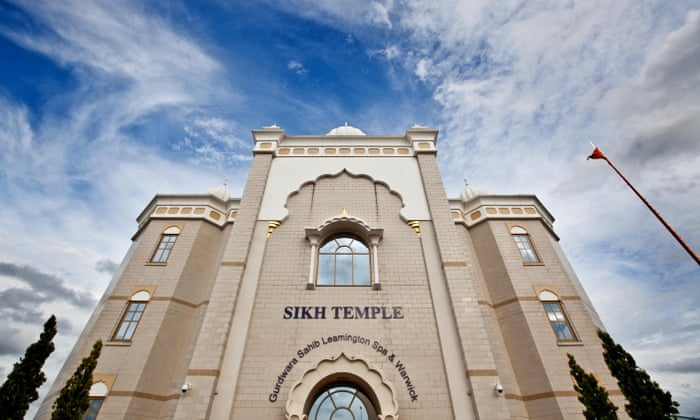Gurdwara: (89, 104, 514, 412)
